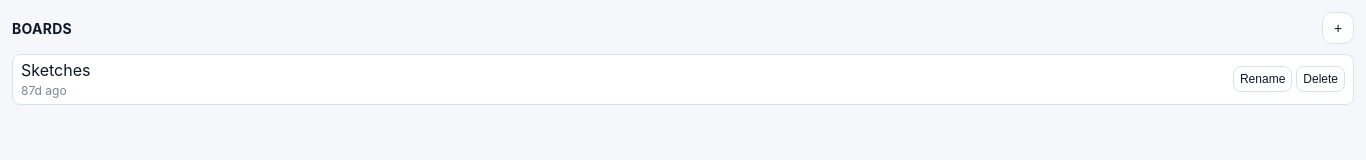
BoardList › renames a board inline and reloads the list
This screenshot has width=1366, height=160.
Check: the list item "Sketches 87d ago Rename Delete" is shown, box [12,54,1354,105]
Check: the button with class "board-list__item-button" is shown, box [21,61,1227,80]
Click the button "Rename" at {"x": 1263, "y": 80}, box [1233,66,1292,92]
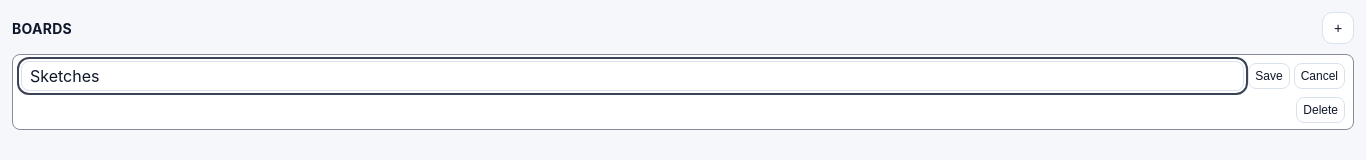
Replace the text in the field named "Board name" with "Updated board" at {"x": 633, "y": 76}, box [21,61,1244,91]
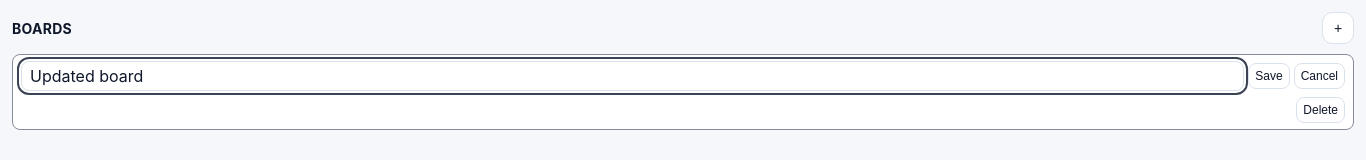
Press Enter in the field named "Board name", box [21,61,1244,91]
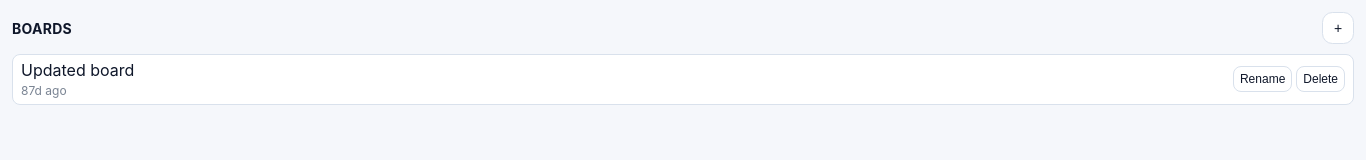
Check: the list item "Updated board 87d ago Rename Delete" is shown, box [12,54,1354,105]
Check: the button with class "board-list__item-button" is shown, box [21,61,1227,80]
